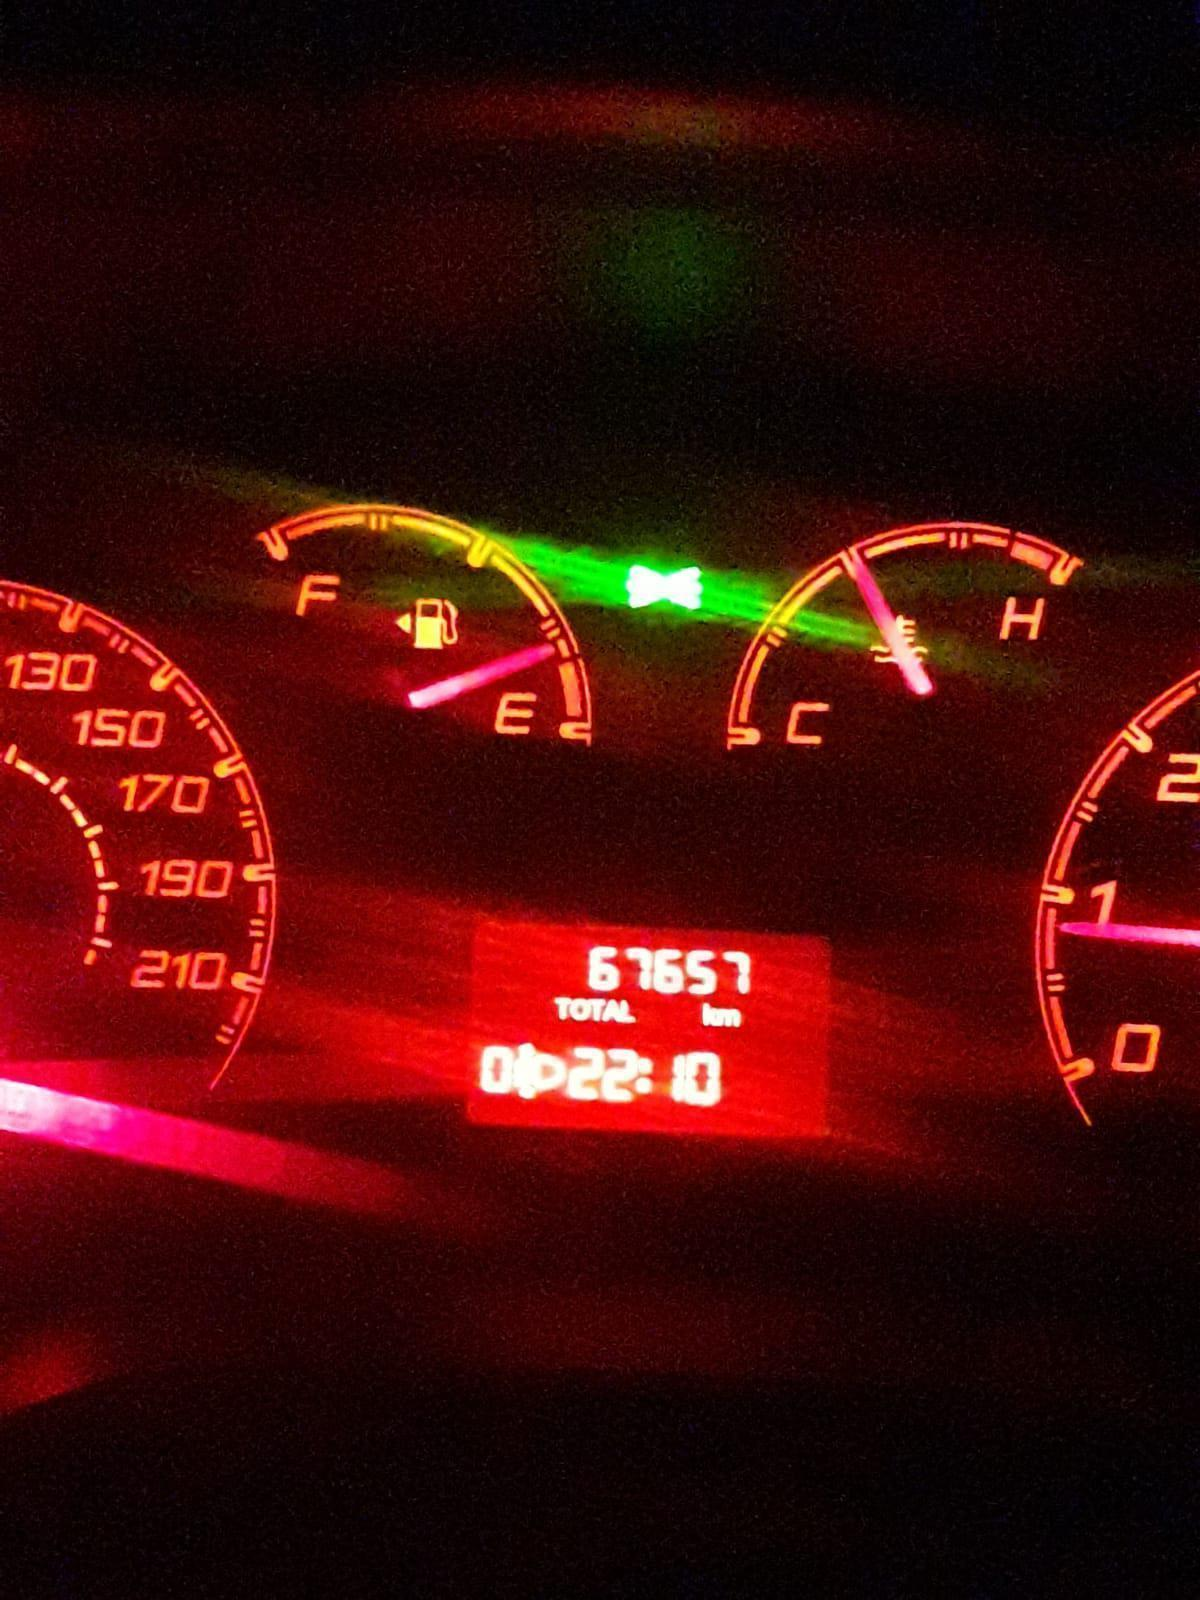0: (684, 1049, 724, 1107), (479, 1042, 513, 1095)
1: (671, 1052, 687, 1105)
2: (568, 1044, 603, 1104), (603, 1046, 637, 1104)
5: (686, 947, 718, 997)
6: (654, 944, 686, 998), (587, 944, 623, 991)
7: (722, 949, 755, 994), (624, 945, 654, 991)
X: (638, 1054, 655, 1094), (716, 1007, 744, 1029), (570, 997, 589, 1023), (701, 1003, 718, 1029), (619, 999, 637, 1024), (587, 998, 605, 1022), (555, 995, 571, 1020), (604, 998, 620, 1022)
odometer: (464, 912, 846, 1143)
